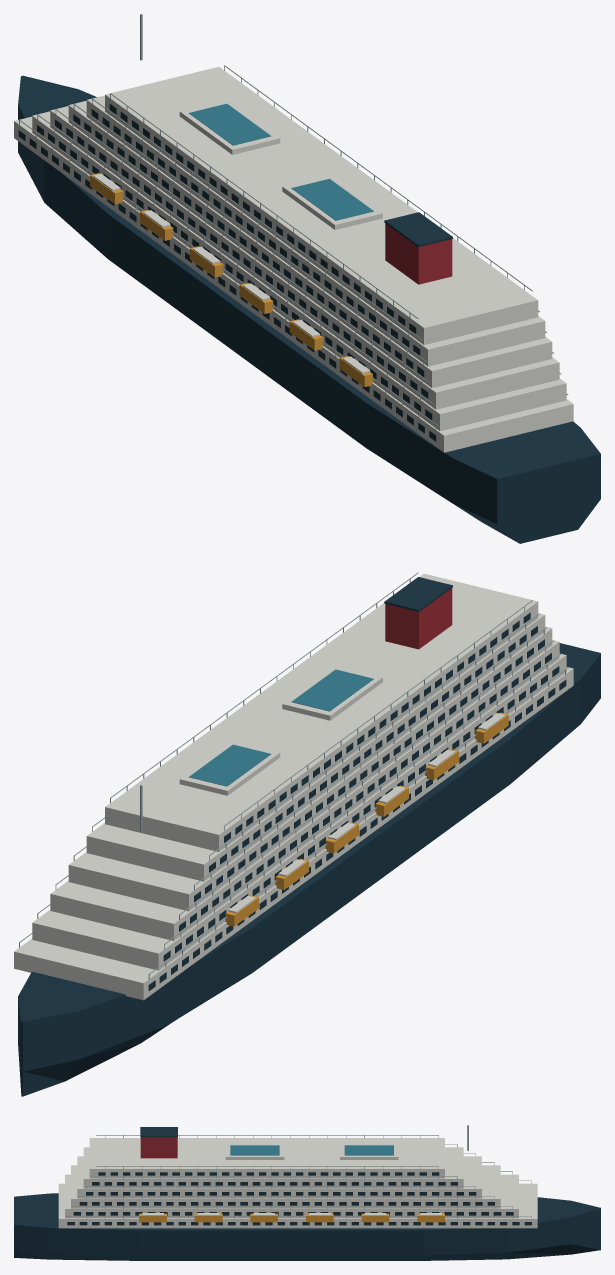
Rendered from cruise.glb.
The picture shows the model from 3 angles, top to bottom: view 1: azimuth 30°, elevation 25°; view 2: azimuth 150°, elevation 25°; view 3: azimuth 270°, elevation 25°; orthographic projection. The views are drawn at different scales.
Visible parts, largest first — view 1: cruise-material-2, cruise-material-1, cruise-material-7, cruise-material-5, cruise-material-4, cruise-material-0; view 2: cruise-material-2, cruise-material-1, cruise-material-7, cruise-material-5, cruise-material-4, cruise-material-0; view 3: cruise-material-2, cruise-material-1, cruise-material-7, cruise-material-4, cruise-material-5, cruise-material-0.
Part boxes in pixels (left/top/right/bottom): cruise-material-2: left=14, top=67, right=573, bottom=452; cruise-material-1: left=18, top=75, right=600, bottom=543; cruise-material-7: left=19, top=14, right=568, bottom=429; cruise-material-5: left=189, top=103, right=373, bottom=220; cruise-material-4: left=90, top=173, right=373, bottom=386; cruise-material-0: left=385, top=223, right=452, bottom=284; cruise-material-2: left=14, top=573, right=573, bottom=1000; cruise-material-1: left=18, top=577, right=600, bottom=1096; cruise-material-7: left=19, top=572, right=568, bottom=979; cruise-material-5: left=189, top=669, right=373, bottom=786; cruise-material-4: left=225, top=712, right=508, bottom=926; cruise-material-0: left=385, top=588, right=452, bottom=649; cruise-material-2: left=58, top=1138, right=537, bottom=1228; cruise-material-1: left=14, top=1127, right=600, bottom=1260; cruise-material-7: left=65, top=1125, right=531, bottom=1218; cruise-material-4: left=139, top=1213, right=444, bottom=1222; cruise-material-5: left=230, top=1145, right=393, bottom=1155; cruise-material-0: left=140, top=1137, right=177, bottom=1158.
Size of the model in its own units: 30 by 44.5 by 190.
